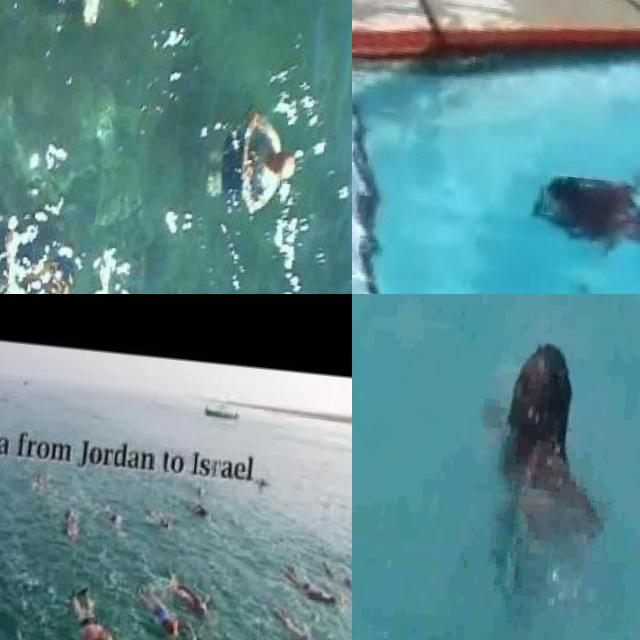drowning: (436, 321, 636, 601), (513, 131, 640, 289)
swimming: (208, 101, 315, 226), (0, 225, 124, 294), (55, 573, 126, 640), (265, 562, 343, 608), (129, 590, 198, 640), (269, 608, 352, 640), (159, 574, 213, 610)
